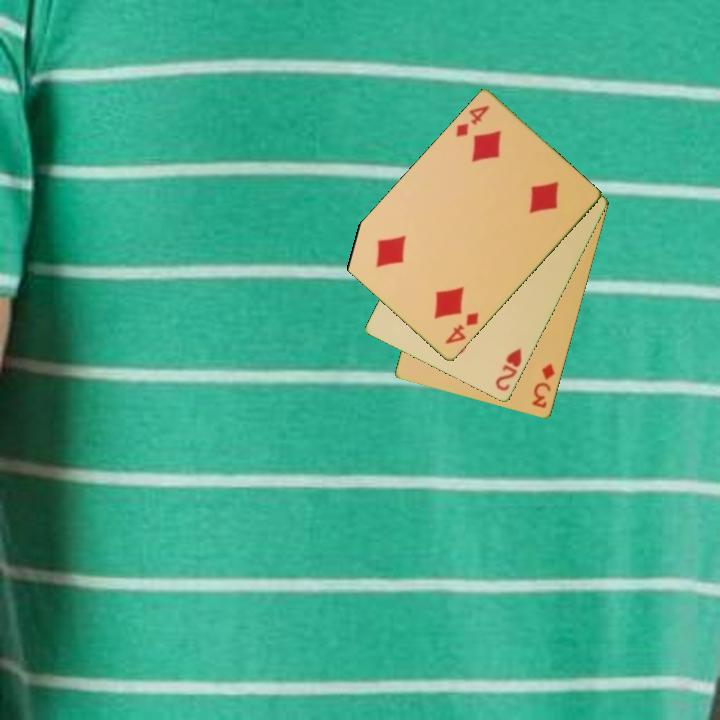2h: (492, 344, 525, 394)
3d: (529, 360, 558, 411)
4d: (441, 309, 482, 347), (452, 102, 493, 140)
